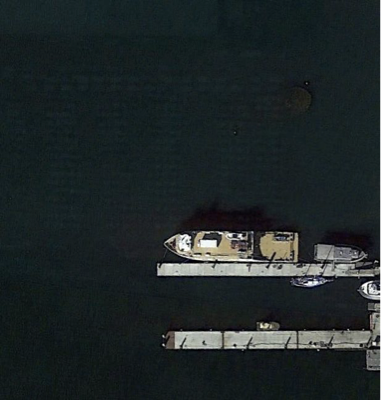boat: (162, 229, 300, 265), (313, 242, 369, 264), (292, 276, 331, 289), (255, 322, 283, 332)
